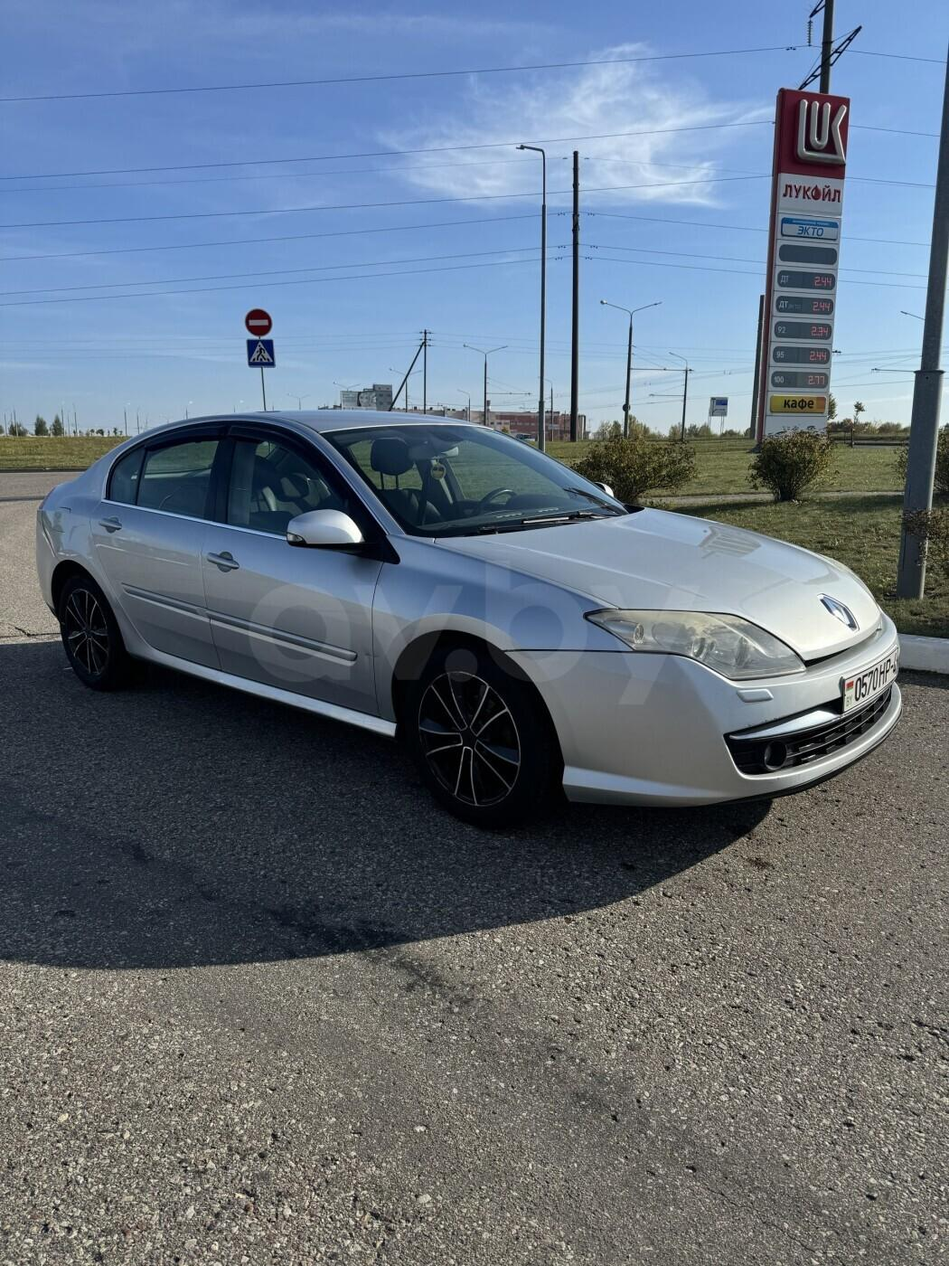Laguna_2007-2011: (35, 411, 900, 827)
